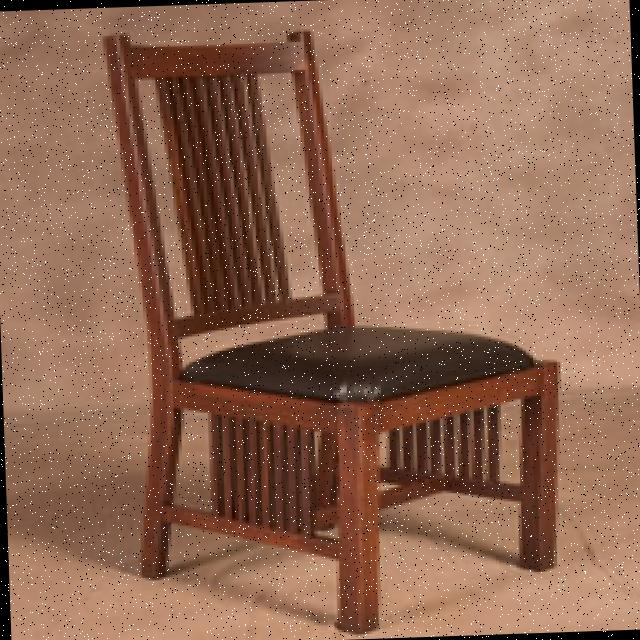Chair: (16, 12, 612, 638)
